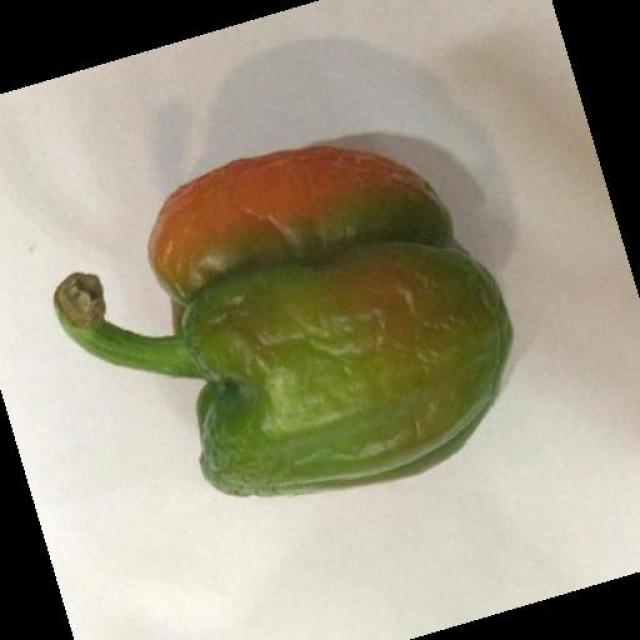Stale_Capsicum: (104, 170, 493, 468)
